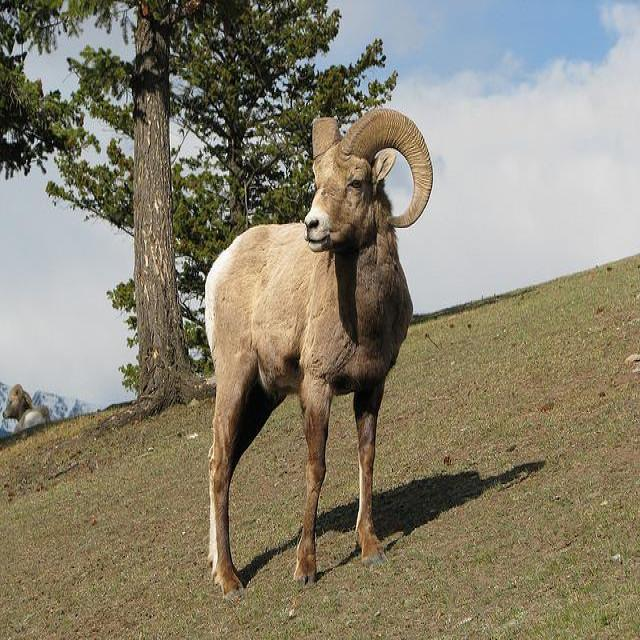Sheep: (204, 101, 433, 608), (3, 384, 53, 435)
